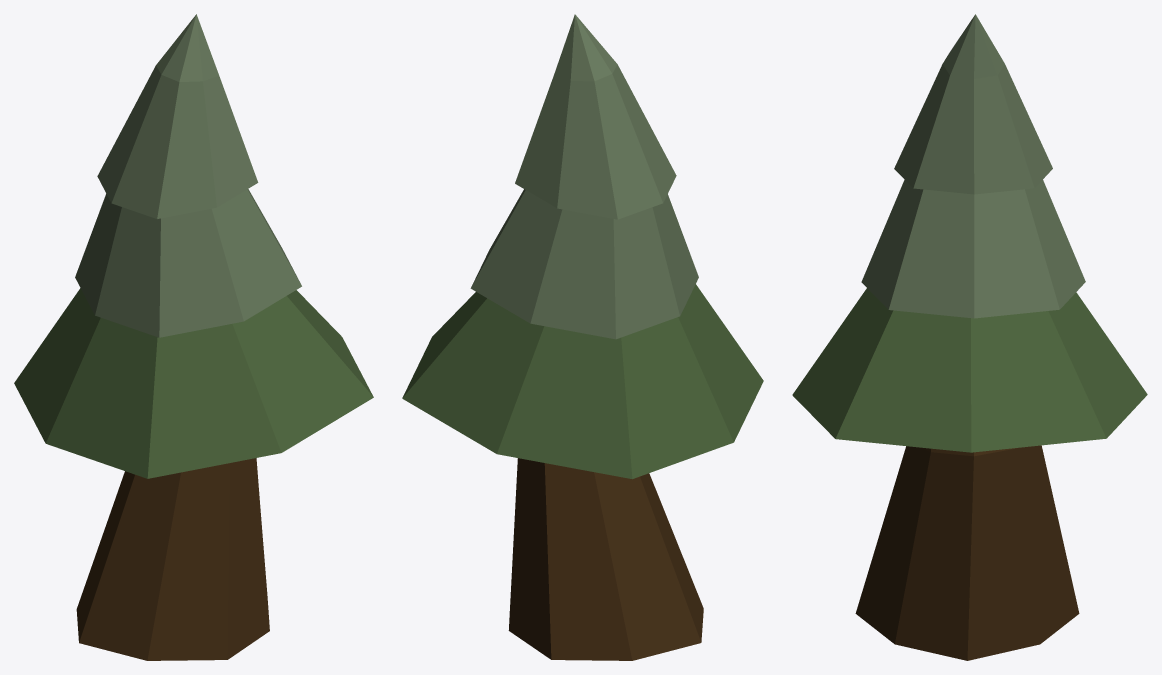
Rendered from Tree_Pine_Med.fbx.
The picture shows the model from 3 angles, left to right: view 1: azimuth 30°, elevation 25°; view 2: azimuth 150°, elevation 25°; view 3: azimuth 270°, elevation 25°; orthographic projection. The views are drawn at different scales.
Parts seen in each view (by area): view 1: Tree_Pine_Med; view 2: Tree_Pine_Med; view 3: Tree_Pine_Med.
Part boxes in pixels (bbox=[...]): Tree_Pine_Med: bbox=[14, 14, 373, 660]; Tree_Pine_Med: bbox=[402, 14, 763, 660]; Tree_Pine_Med: bbox=[792, 14, 1147, 660].
Bounding box in the file's own units: 5.3 × 10.14 × 5.33.
